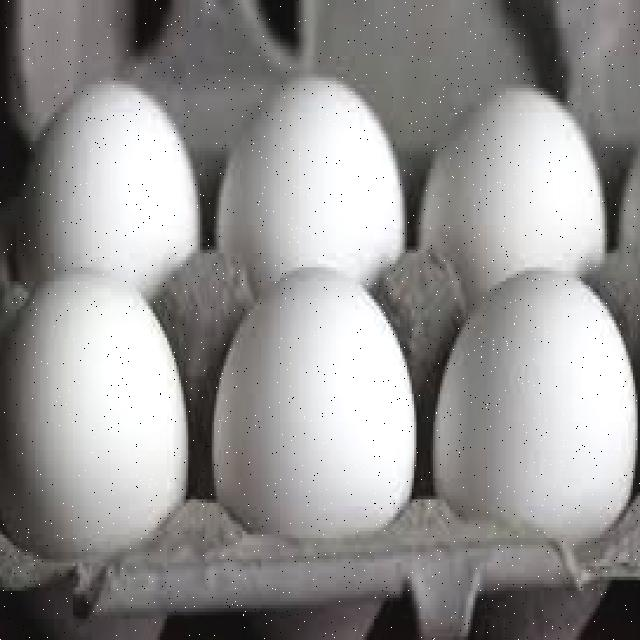White Egg: (423, 246, 640, 580), (202, 283, 426, 530), (0, 278, 188, 556)
